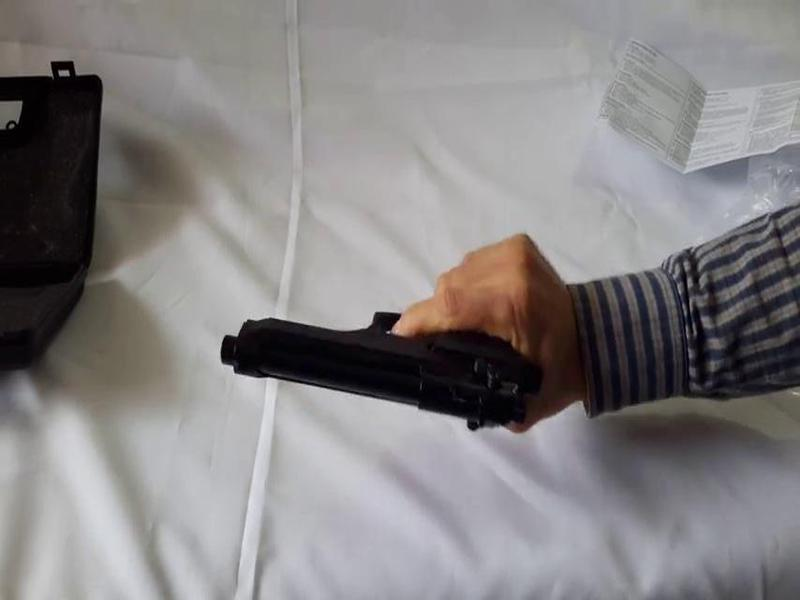Pistola: (184, 275, 568, 470)
